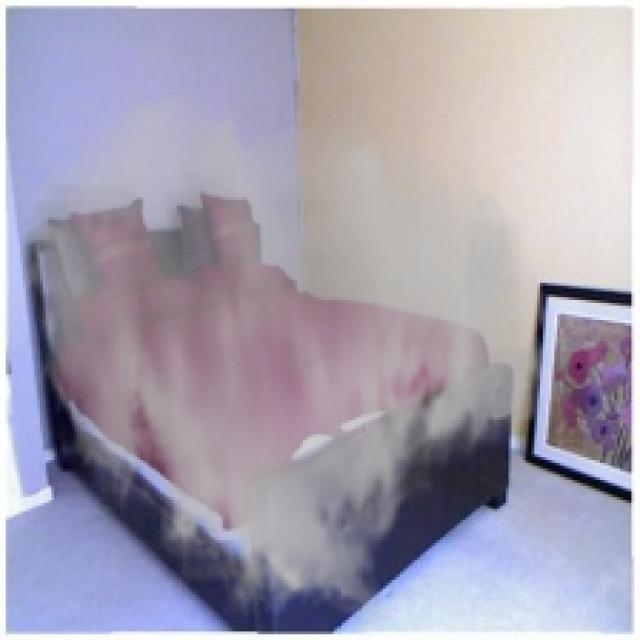smoke: (14, 89, 554, 632)
